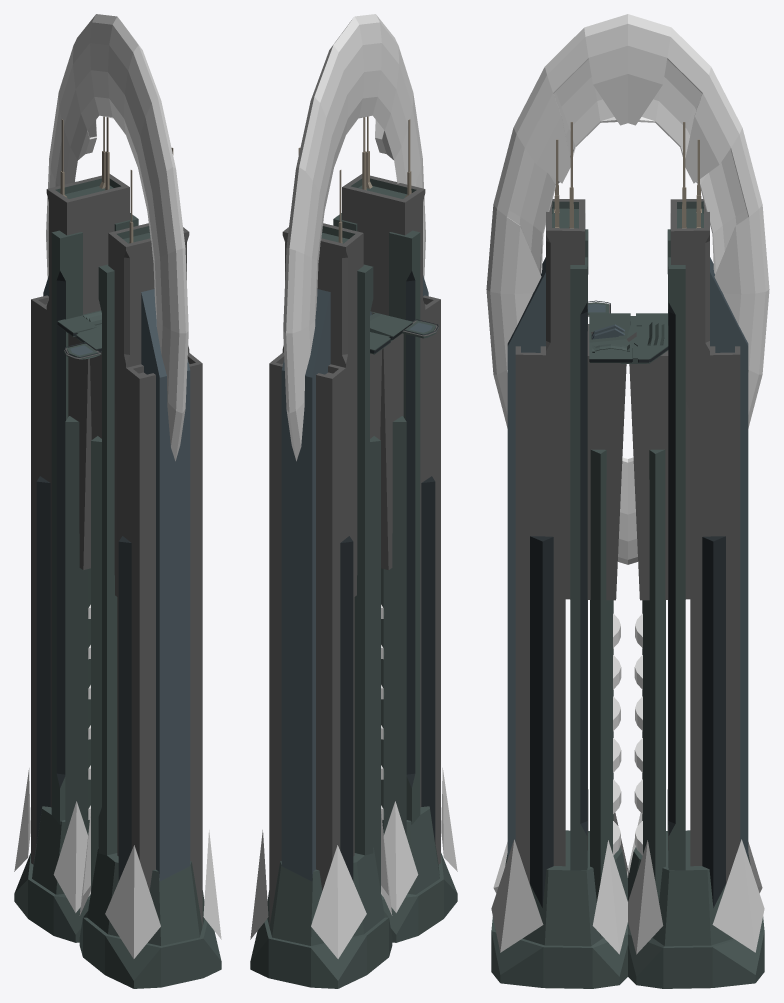
The model's file is building_71.fbx.
3 views of the same model, side by side, from view 1: azimuth 30°, elevation 25°; view 2: azimuth 150°, elevation 25°; view 3: azimuth 270°, elevation 25° (orthographic). The views are drawn at different scales.
Parts seen in each view (by area): view 1: building_71; view 2: building_71; view 3: building_71.
Boxes of the visible parts, x1,y1,x2,y2 form: building_71: [14, 14, 221, 988]; building_71: [250, 14, 457, 988]; building_71: [486, 14, 769, 988].
Size of the model in its own units: 660 by 4844 by 1311.
